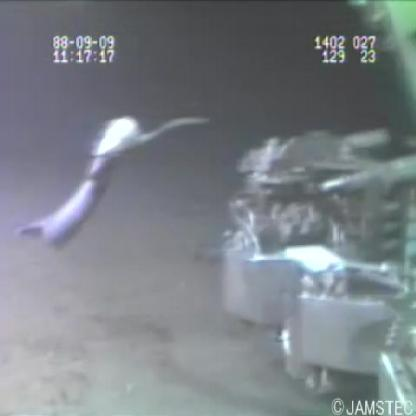Bio: (14, 110, 142, 253), (97, 111, 217, 164)
Rov: (210, 120, 416, 410)
